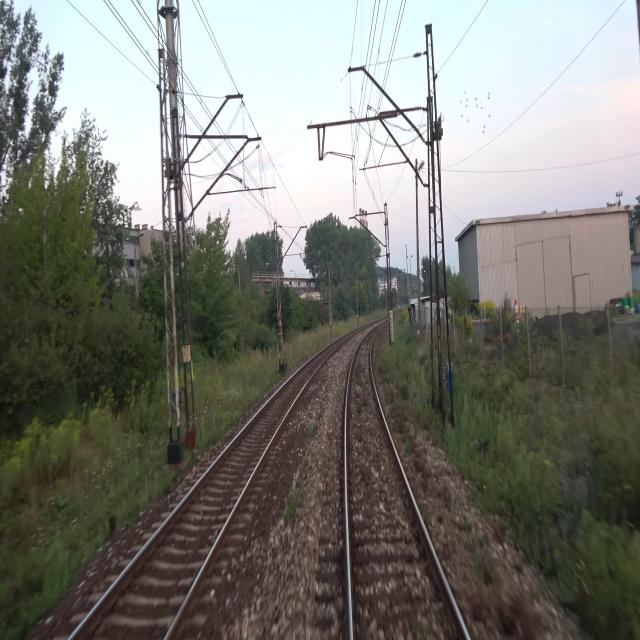rail-track: (73, 341, 339, 639), (347, 328, 466, 639)
